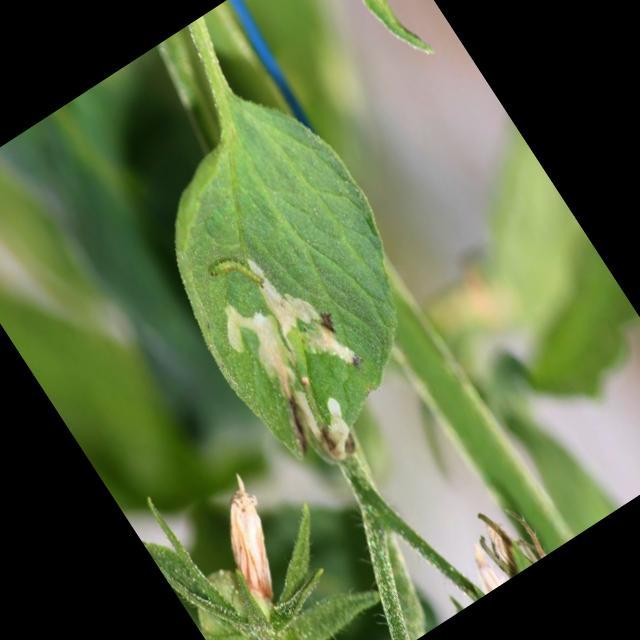Tomato target spot leaf: (89, 57, 483, 493)
